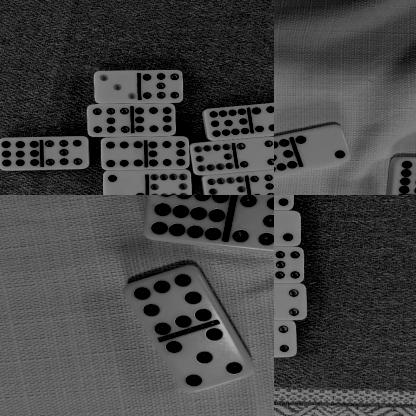pip-10: (190, 140, 236, 176), (147, 169, 192, 195), (202, 173, 249, 195)
pip-11: (204, 106, 250, 141), (274, 139, 297, 178)
pip-12: (146, 195, 229, 245), (393, 157, 416, 195)
pip-2: (294, 124, 352, 167), (103, 170, 148, 195), (274, 211, 301, 247)
pip-3: (94, 71, 140, 103)
pip-4: (274, 283, 307, 320), (237, 138, 274, 169), (274, 321, 298, 359)
pip-5: (166, 329, 252, 393)
pip-6: (102, 136, 146, 171), (250, 102, 274, 135)
pip-7: (232, 195, 274, 257), (42, 137, 90, 170), (88, 105, 134, 138), (140, 70, 184, 103), (274, 247, 305, 283), (250, 170, 274, 195)
pip-8: (123, 267, 212, 335), (146, 136, 190, 170), (133, 103, 177, 136)
pip-9: (0, 137, 42, 170)
